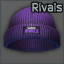Rivals 2020 beanie: (0, 0, 64, 64)
